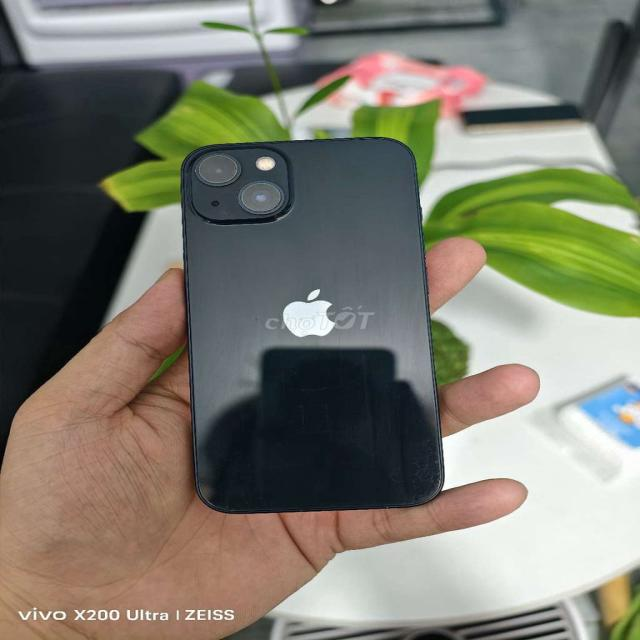gen_12_13: (170, 133, 445, 525)
